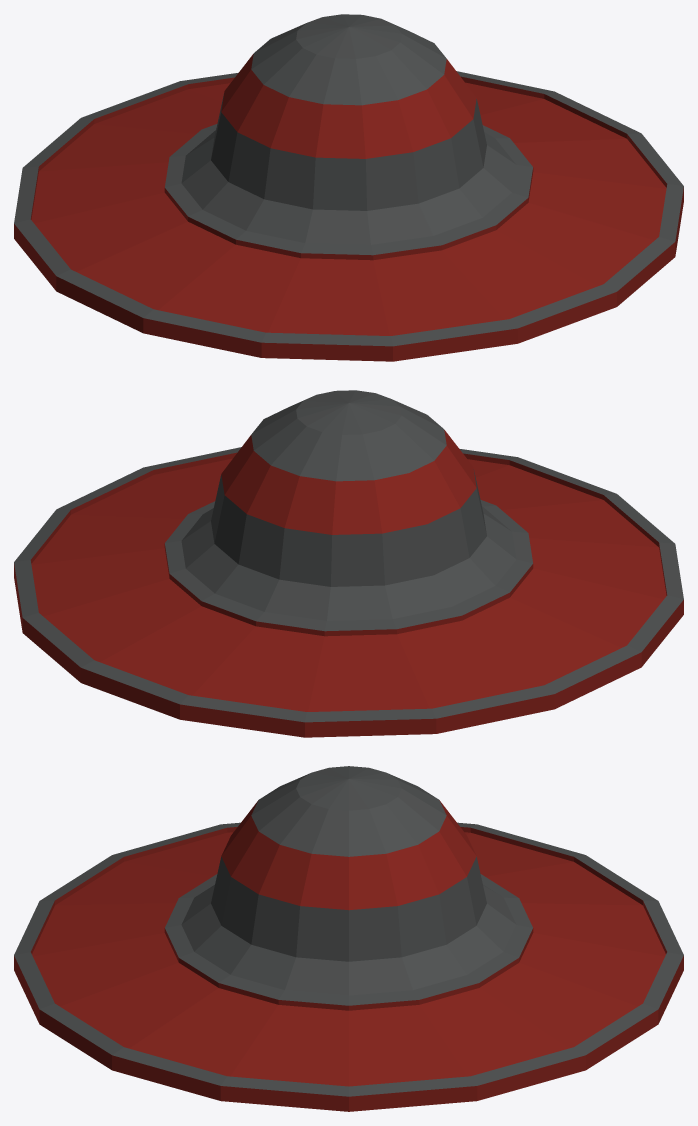
The model's file is UFO.fbx.
3 renders of one model, top to bottom at view 1: azimuth 30°, elevation 25°; view 2: azimuth 150°, elevation 25°; view 3: azimuth 270°, elevation 25°, orthographic.
Parts seen in each view (by area): view 1: Окружность, Сфера; view 2: Окружность, Сфера; view 3: Окружность, Сфера.
Part boxes in pixels (x1,y1,x2,y2): Окружность: (14,71,683,361); Сфера: (211,14,486,210); Окружность: (14,447,683,737); Сфера: (211,390,486,586); Окружность: (14,822,683,1111); Сфера: (211,766,486,961).
Size of the model in its own units: 200 by 73.05 by 200.
Materials: 1 (1 with a texture image).
